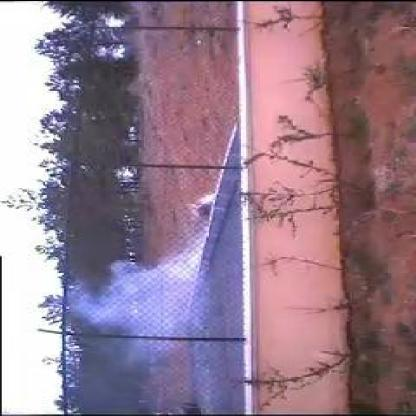-: (68, 226, 208, 358)
